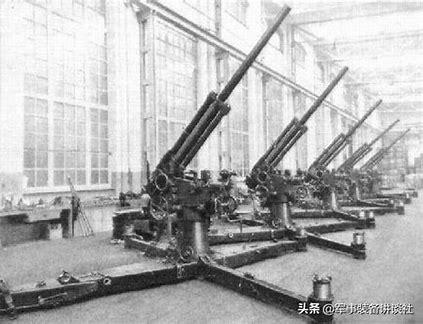MIL_SPG: (0, 7, 338, 321), (208, 67, 374, 258)
